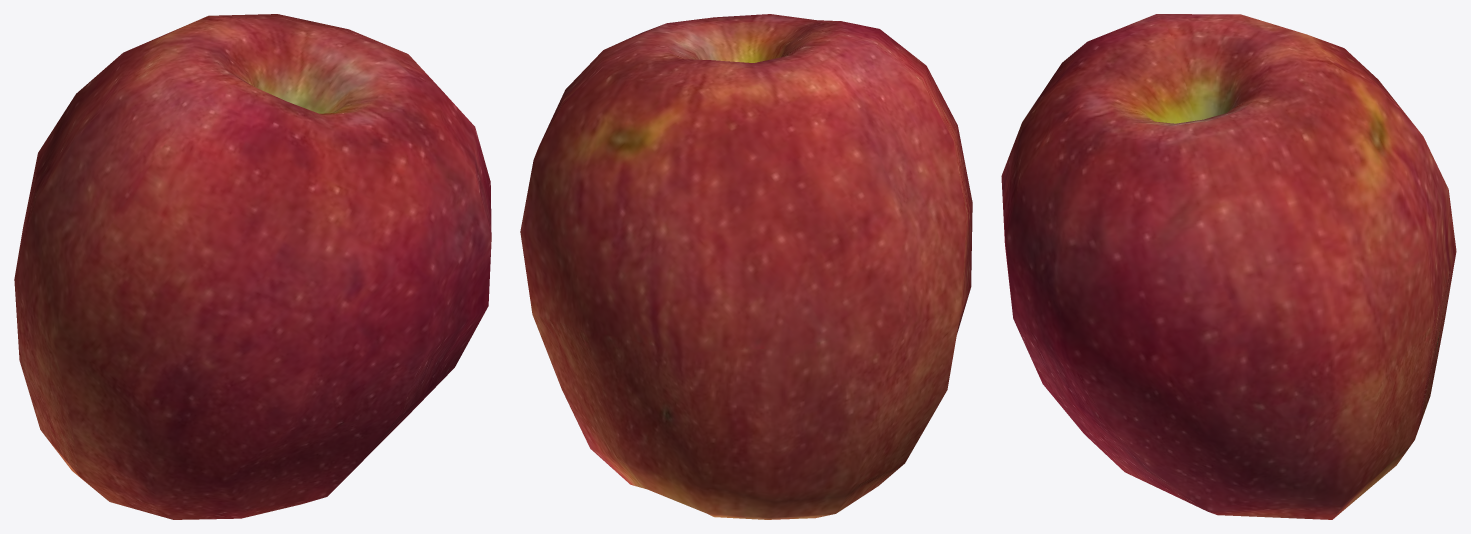
Rendered from A59_Apple_low.fbx.
The picture shows the model from 3 angles, left to right: view 1: azimuth 30°, elevation 25°; view 2: azimuth 150°, elevation 25°; view 3: azimuth 270°, elevation 25°; orthographic projection. The views are drawn at different scales.
Visible parts, largest first — view 1: A59_Apple_low; view 2: A59_Apple_low; view 3: A59_Apple_low.
Part boxes in pixels (x1,y1,x2,y2): A59_Apple_low: [14, 14, 491, 519]; A59_Apple_low: [520, 14, 972, 519]; A59_Apple_low: [1001, 14, 1456, 519].
Bounding box in the file's own units: 11.43 × 11.03 × 11.65.
Materials: 1 (1 with a texture image).
